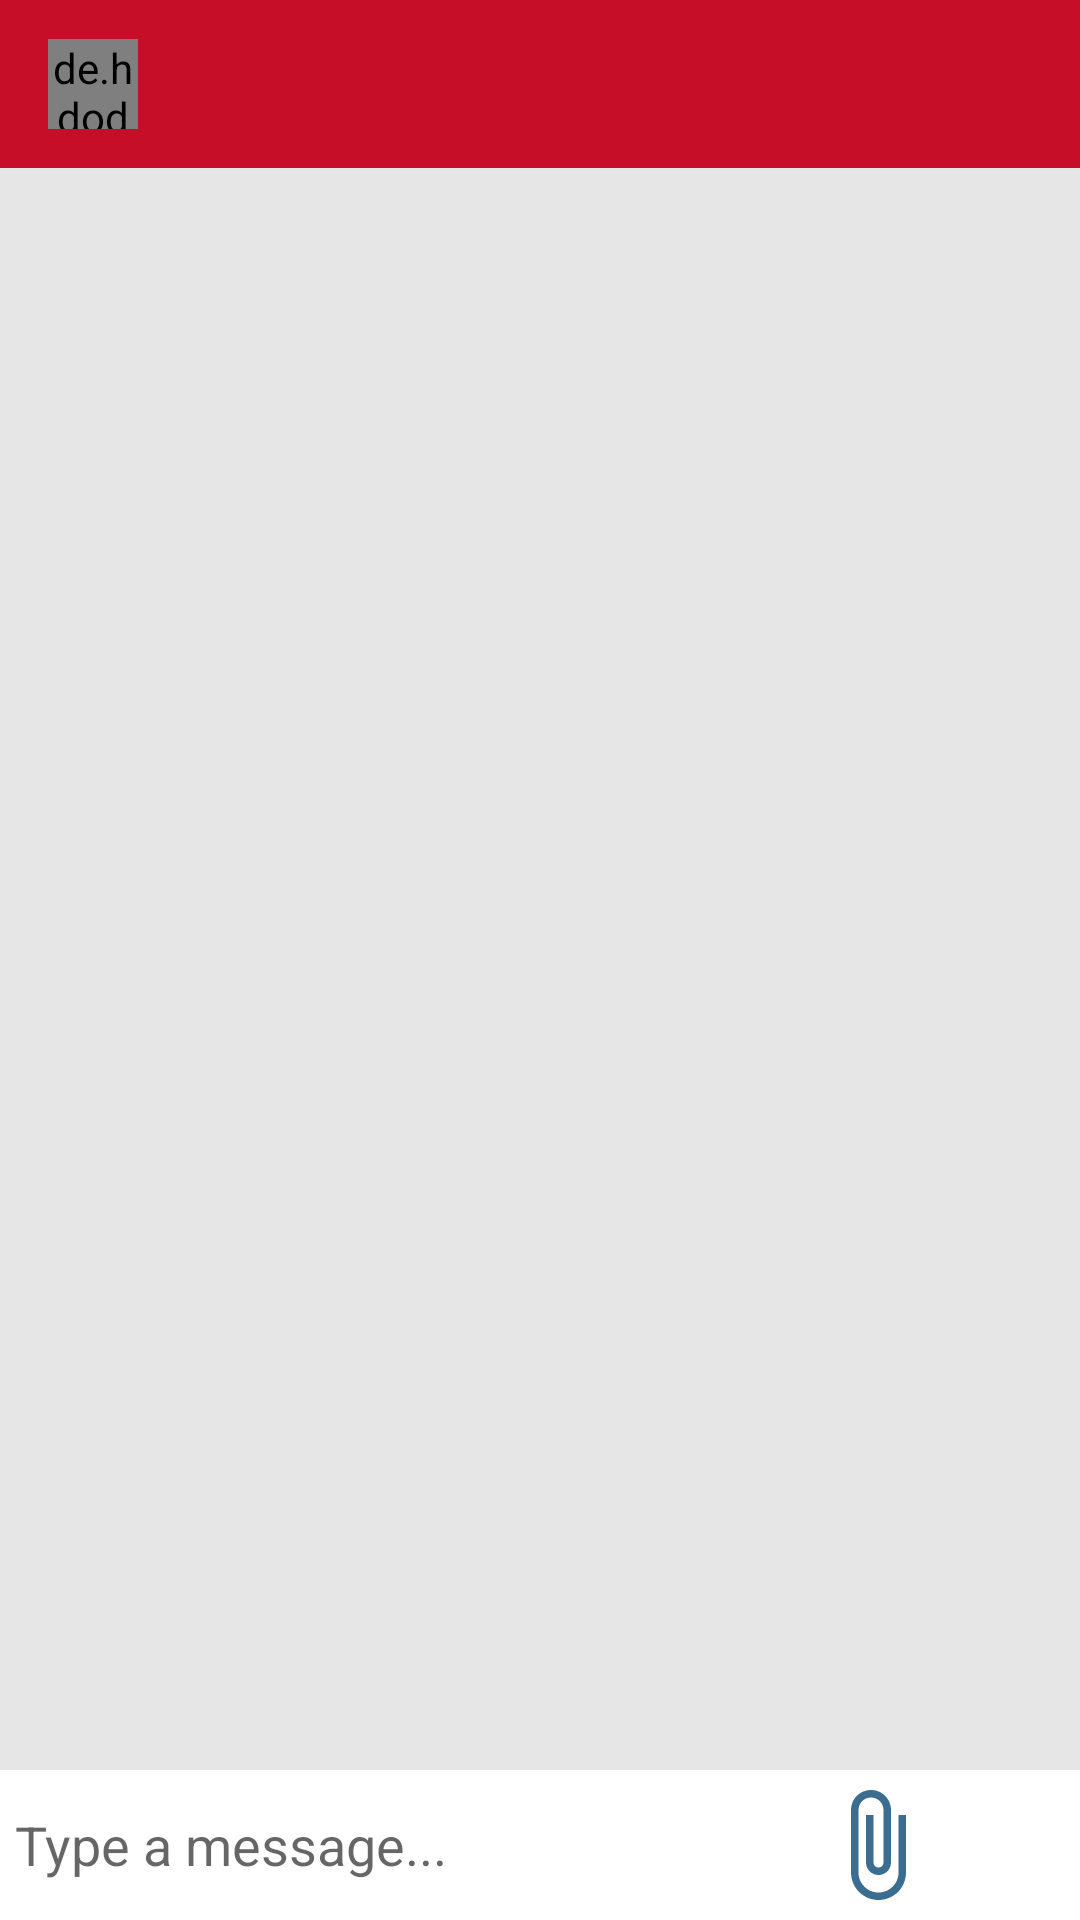

Icons on this 1080x1920 Android screen, each with its box as (left=x1, top=y1, right=x2, bottom=y2):
attach: (left=851, top=1790, right=906, bottom=1900)
